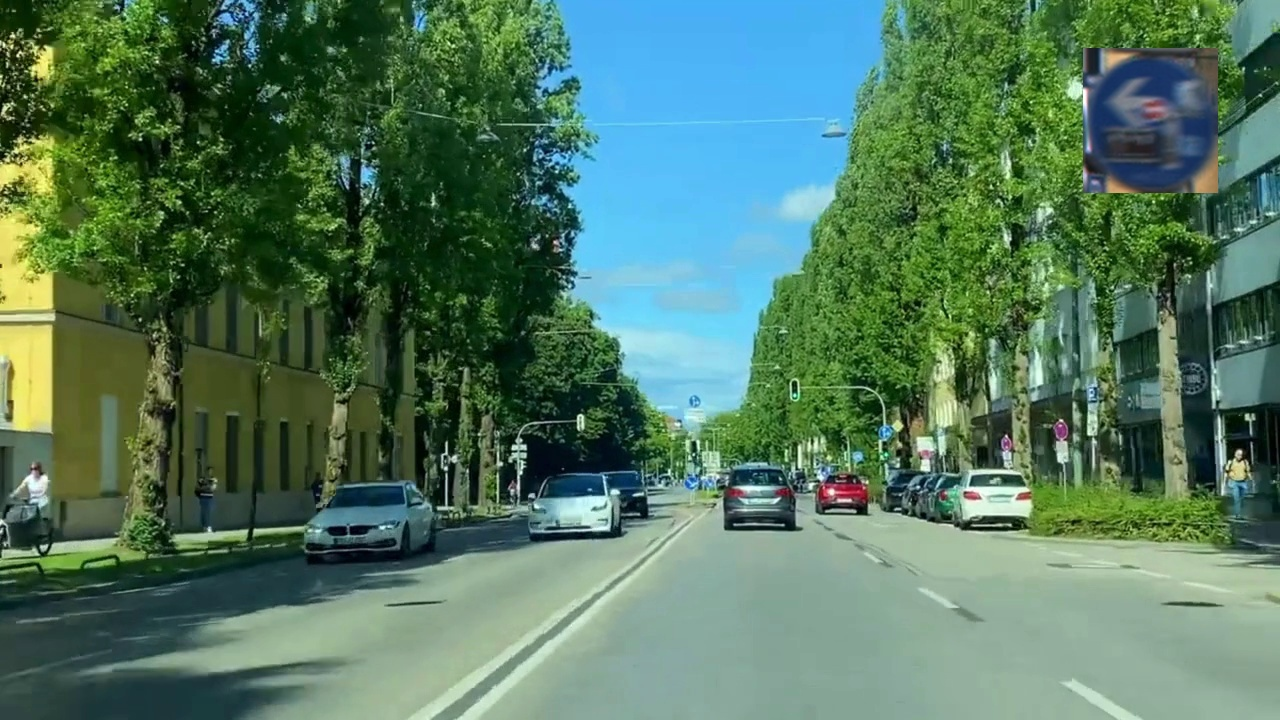Turn left: (1083, 48, 1218, 193)
